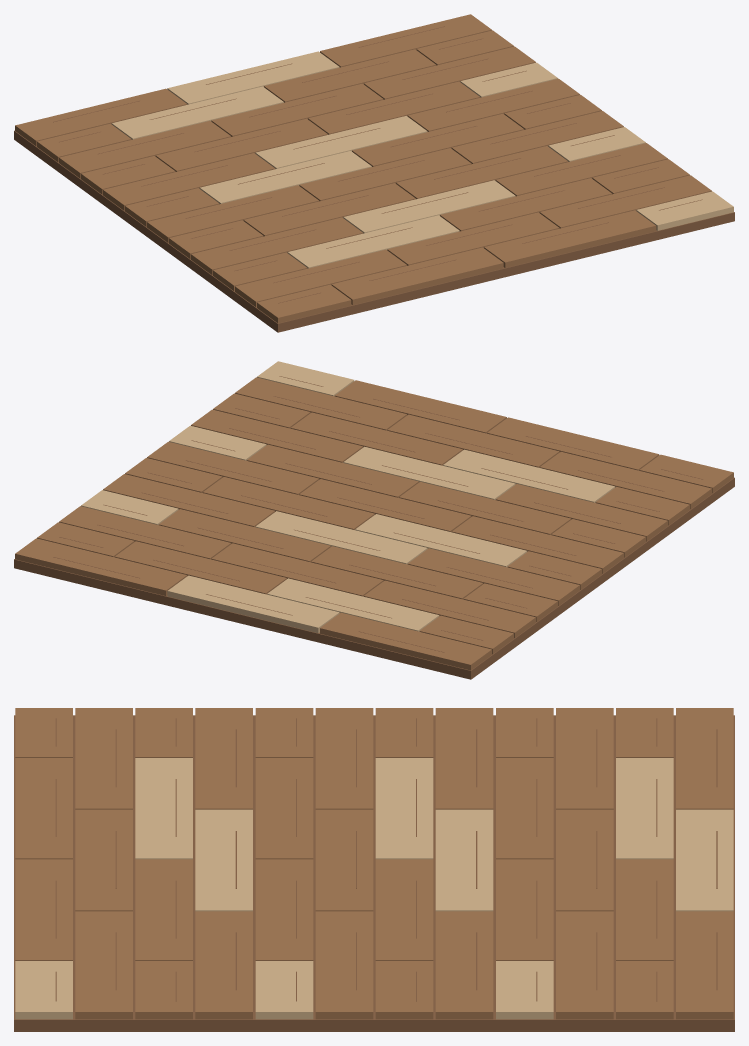
Rendered from gh_floor_wood_v01.glb.
3 renders of one model, top to bottom at view 1: azimuth 30°, elevation 25°; view 2: azimuth 150°, elevation 25°; view 3: azimuth 270°, elevation 25°, orthographic. The views are drawn at different scales.
Parts seen in each view (by area): view 1: Staggered oak floor; view 2: Staggered oak floor; view 3: Staggered oak floor.
Boxes of the visible parts, x1,y1,x2,y2 form: Staggered oak floor: (14, 14, 734, 332); Staggered oak floor: (14, 361, 734, 679); Staggered oak floor: (14, 708, 734, 1031).
Bounding box in the file's own units: 6 × 0.1809 × 6.
1 material, 1 textured.
